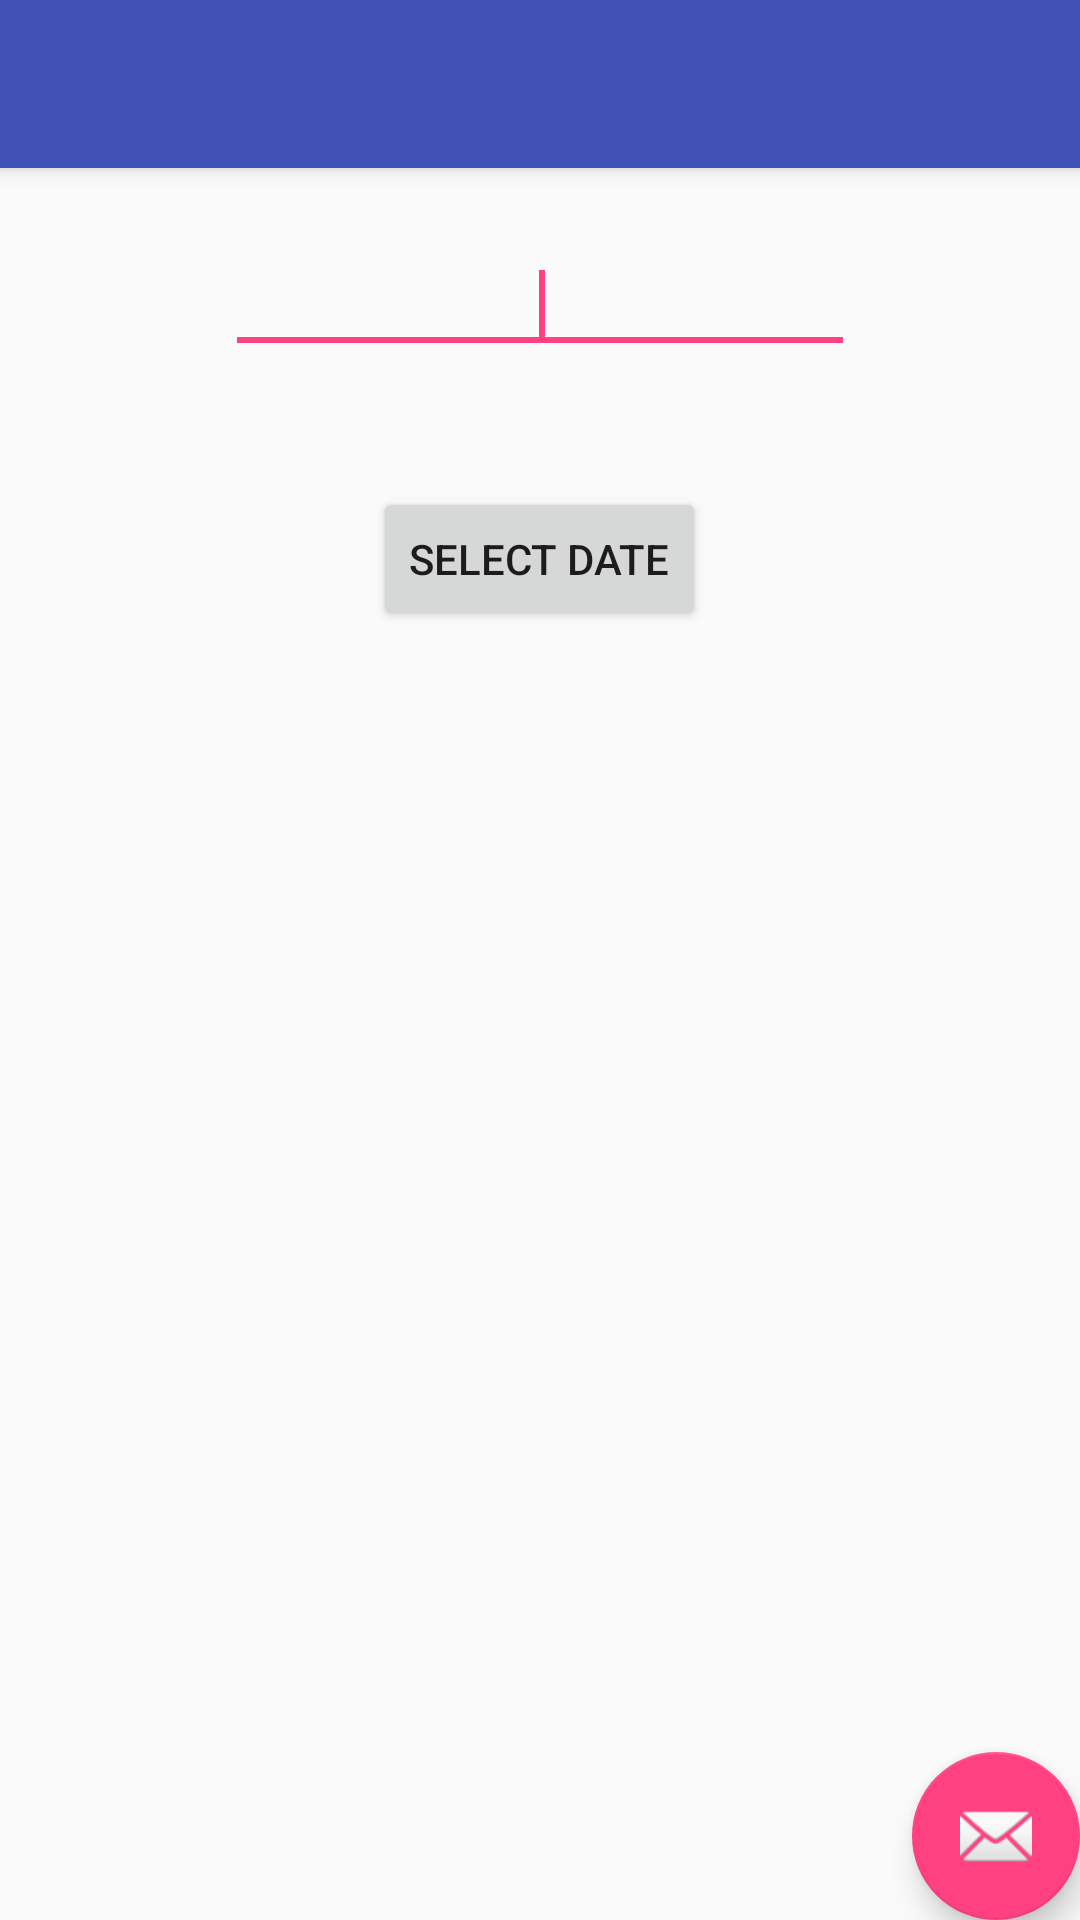

Where to tap for icons on this 1080x1920 app screen, as [x,y]:
email: [996,1836]
